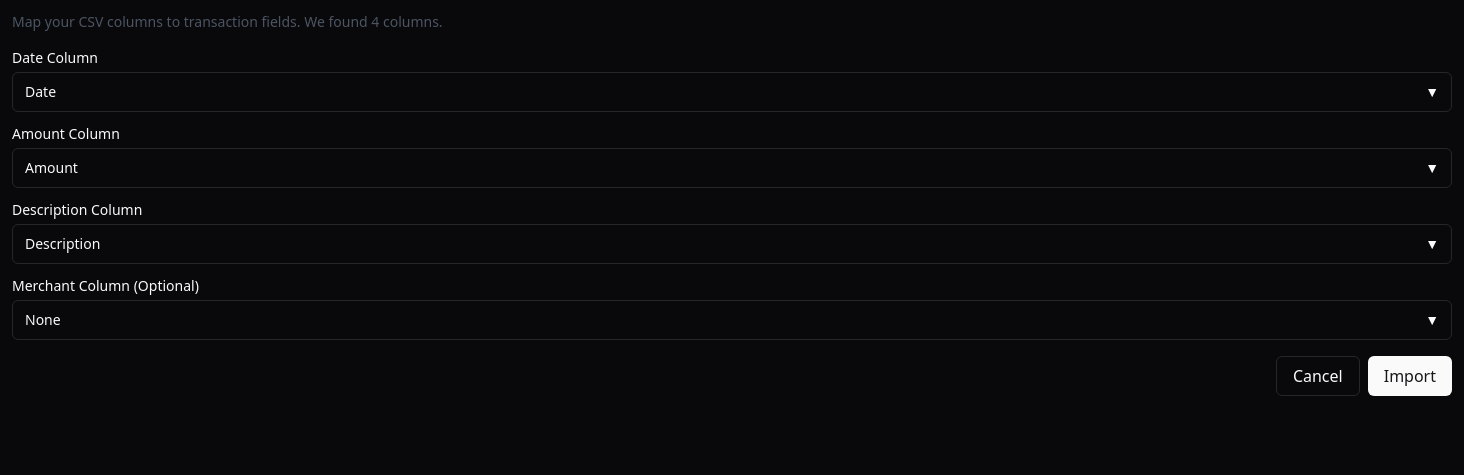
Test: ColumnMappingForm › Import Functionality › should show success message on successful import
The image size is (1464, 475).
Click the button "Import".
click(1410, 376)  # box [1368,356,1452,396]
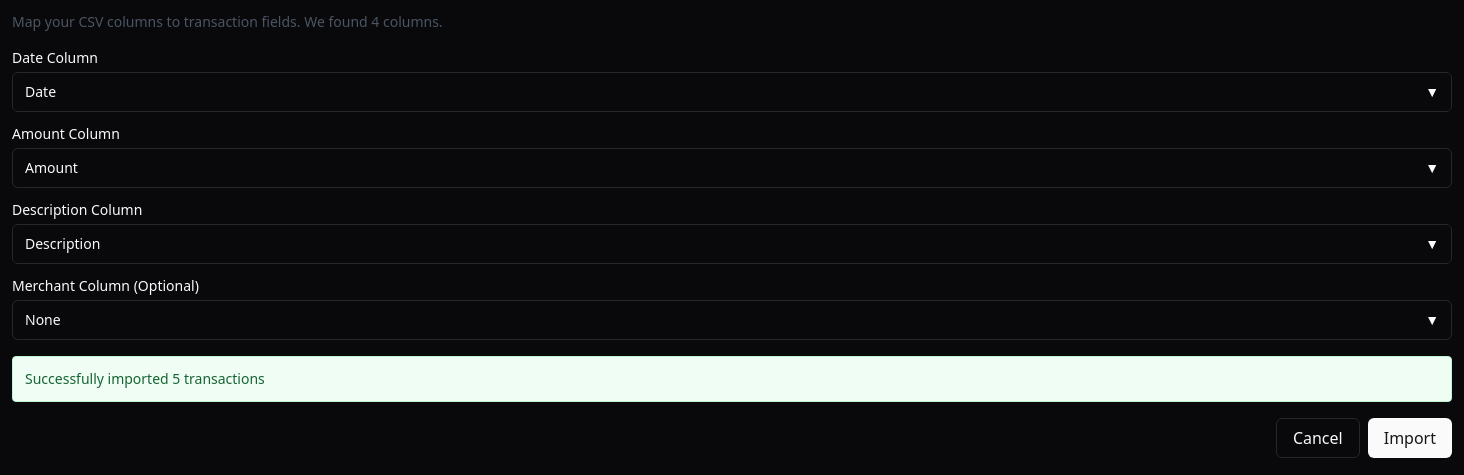
Check: the text "Successfully imported 5 transactions" is shown, box [12,356,1452,402]
